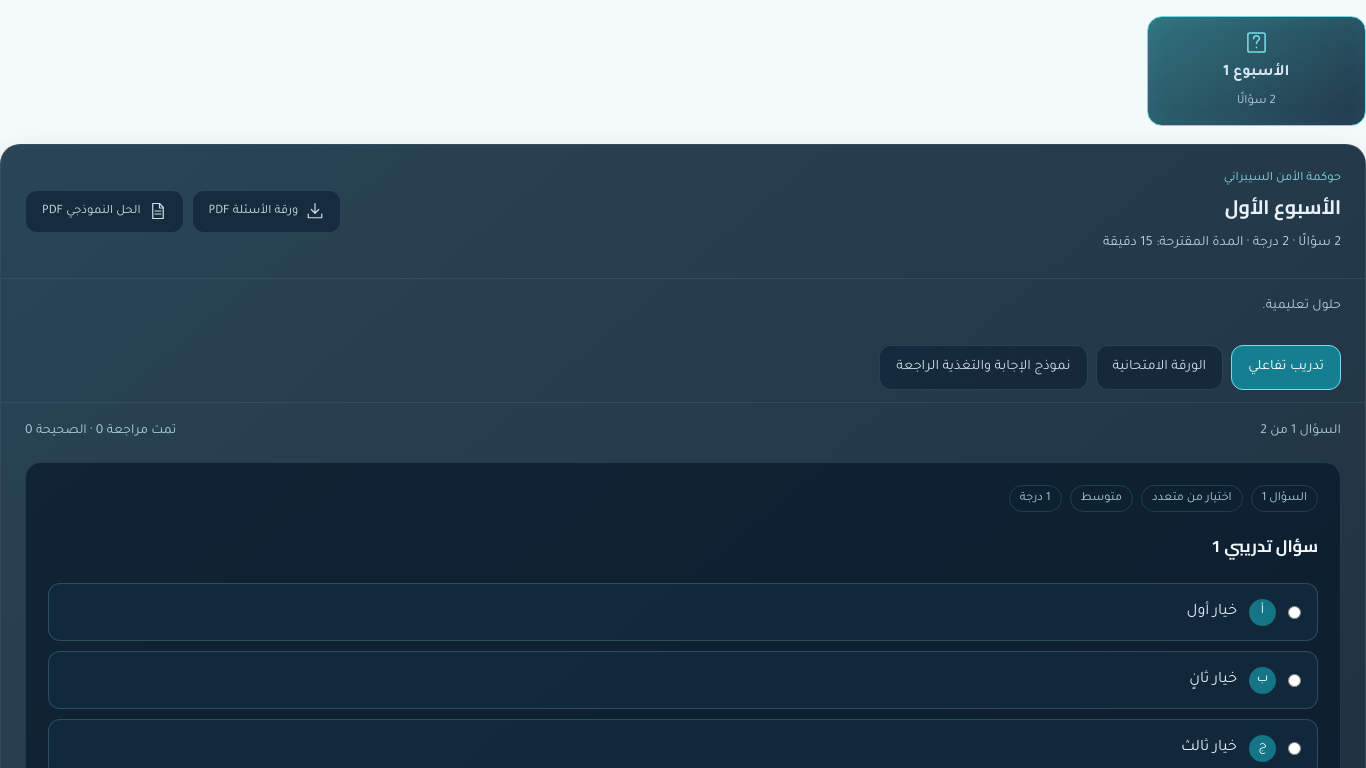
Scenario: shows all questions without fetching hidden answers, then requests the model explicitly
Click the button "الورقة الامتحانية" at (1159, 368), box [1096,345,1223,390]
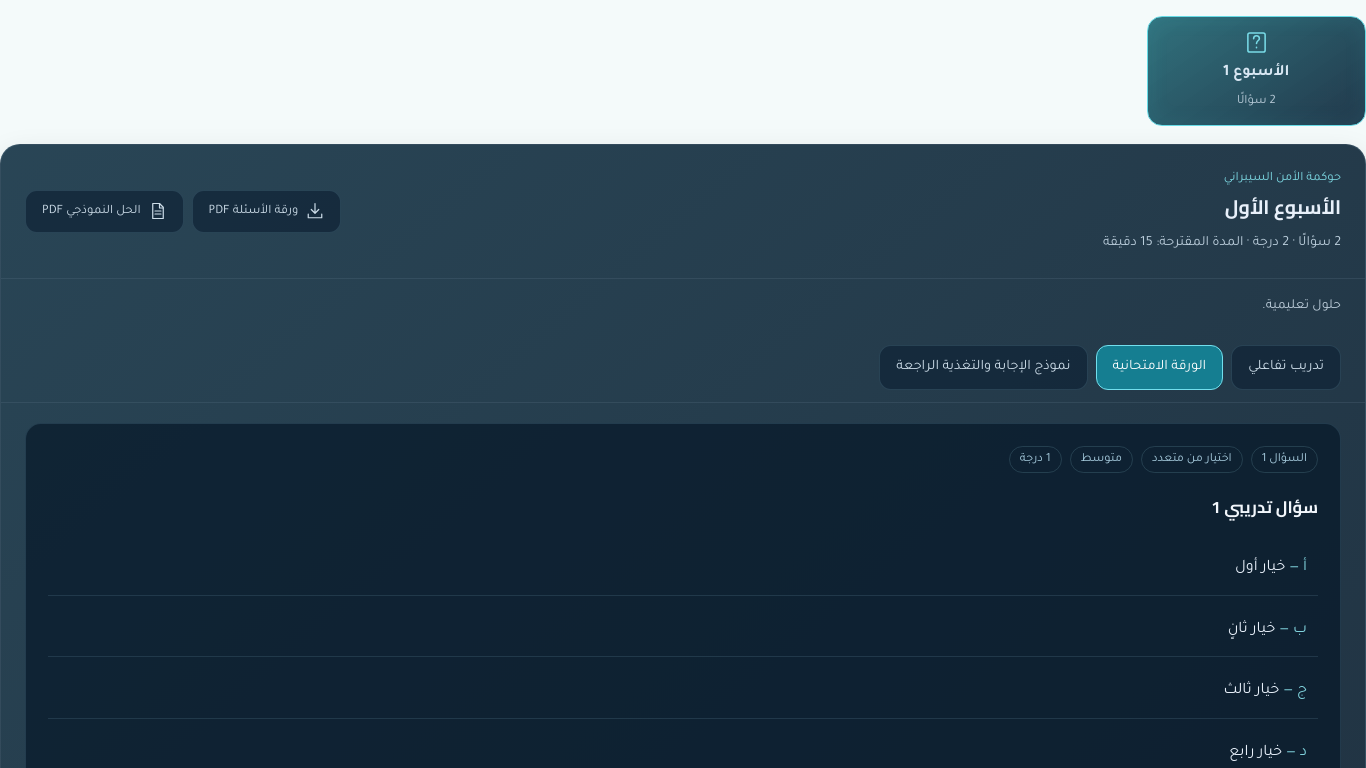
Click the button "نموذج الإجابة والتغذية الراجعة" at (983, 368), box [879,345,1088,390]
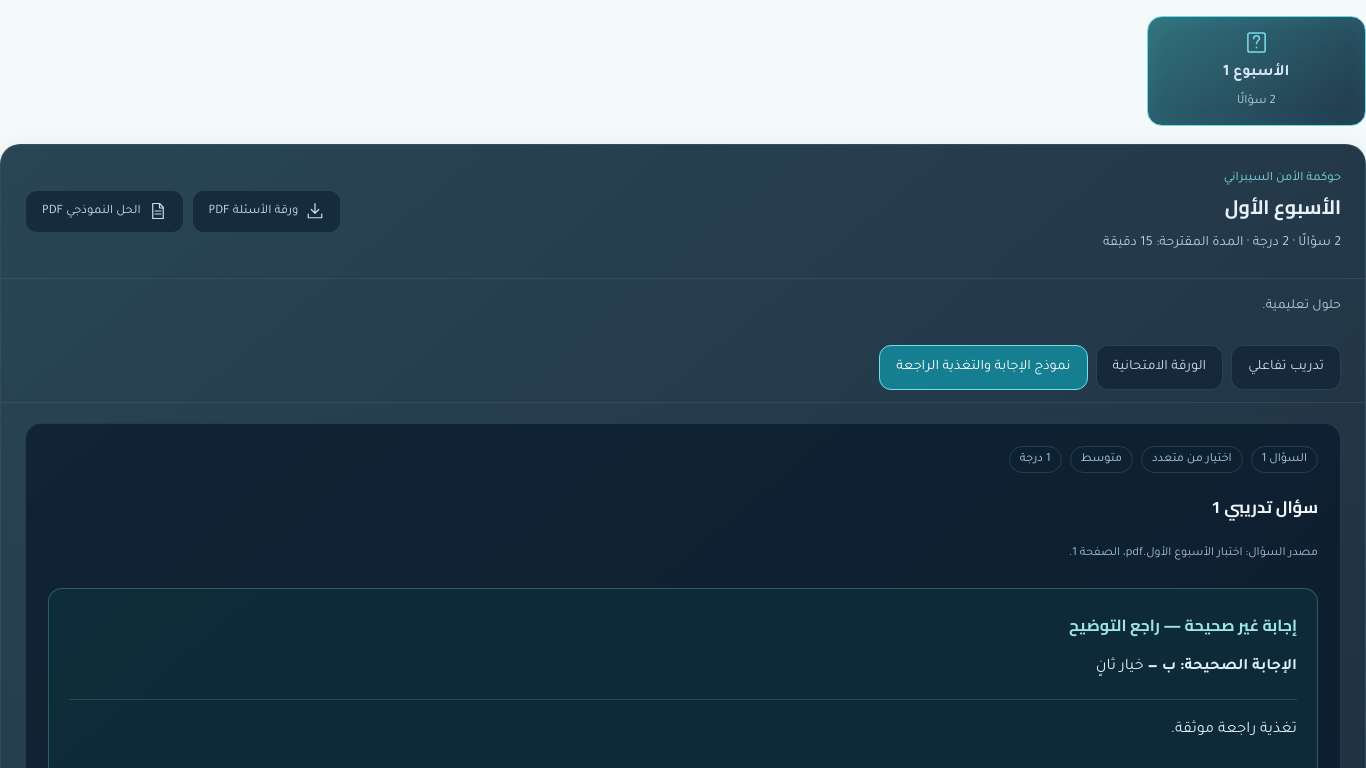
Now the text "تغذية راجعة موثقة." is shown, box [69,699,1297,748]
